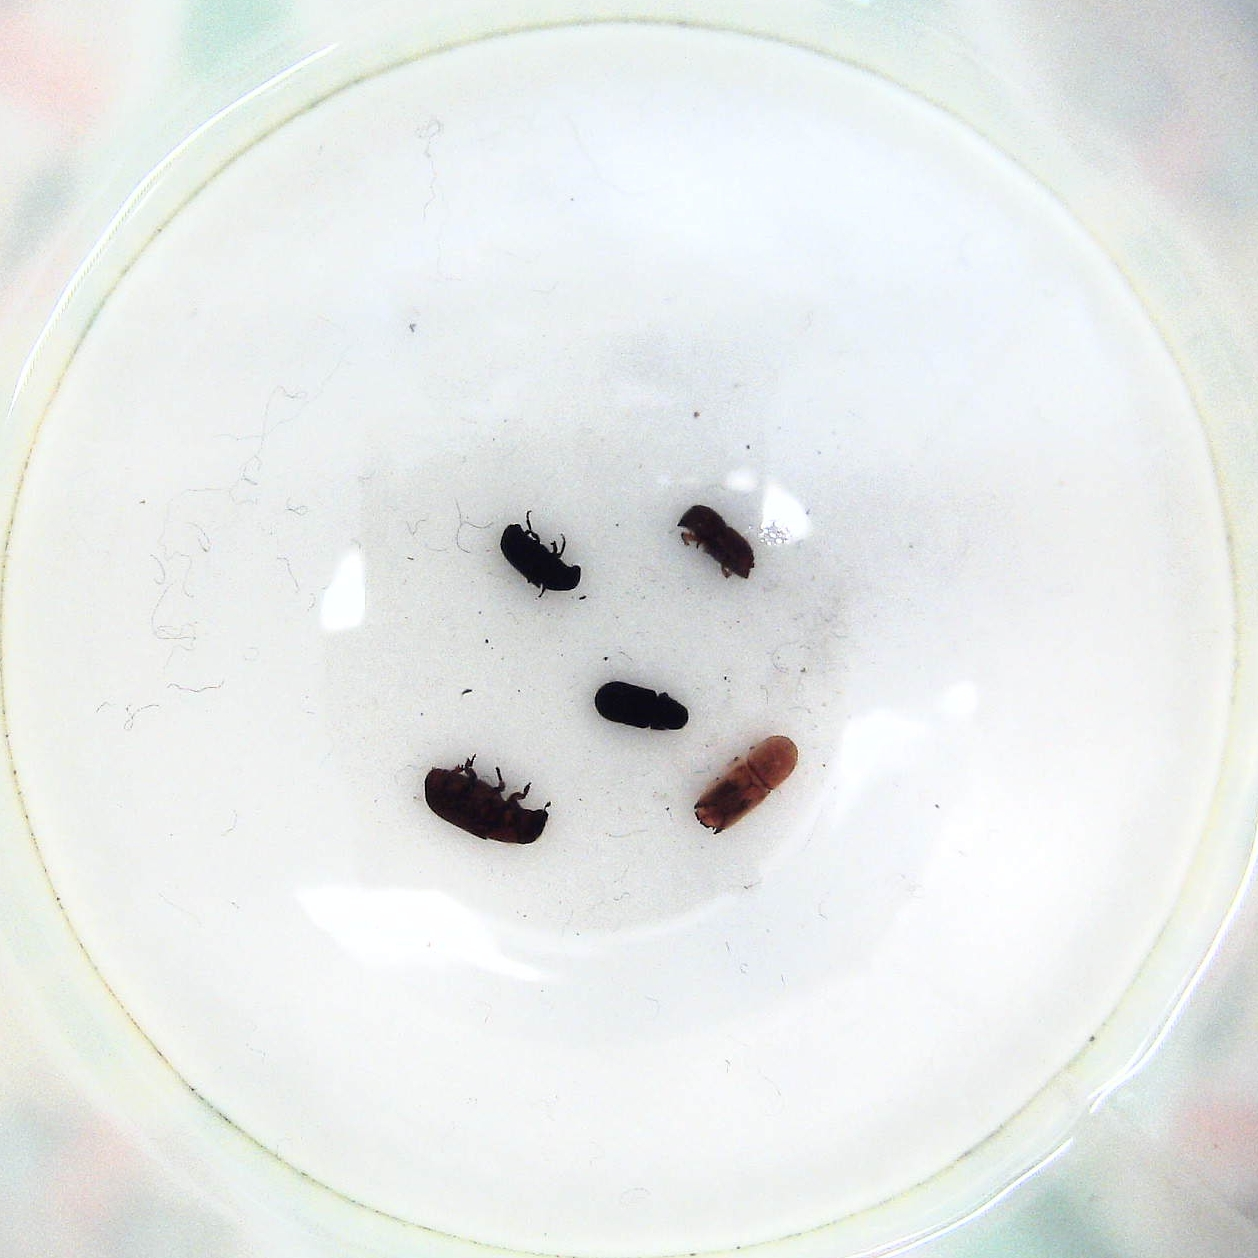Boerner: (691, 729, 804, 836)
Leconte: (418, 753, 552, 851)
armandi: (594, 677, 696, 738)
coleoptera: (497, 511, 584, 604)
linnaeus: (672, 502, 757, 582)
